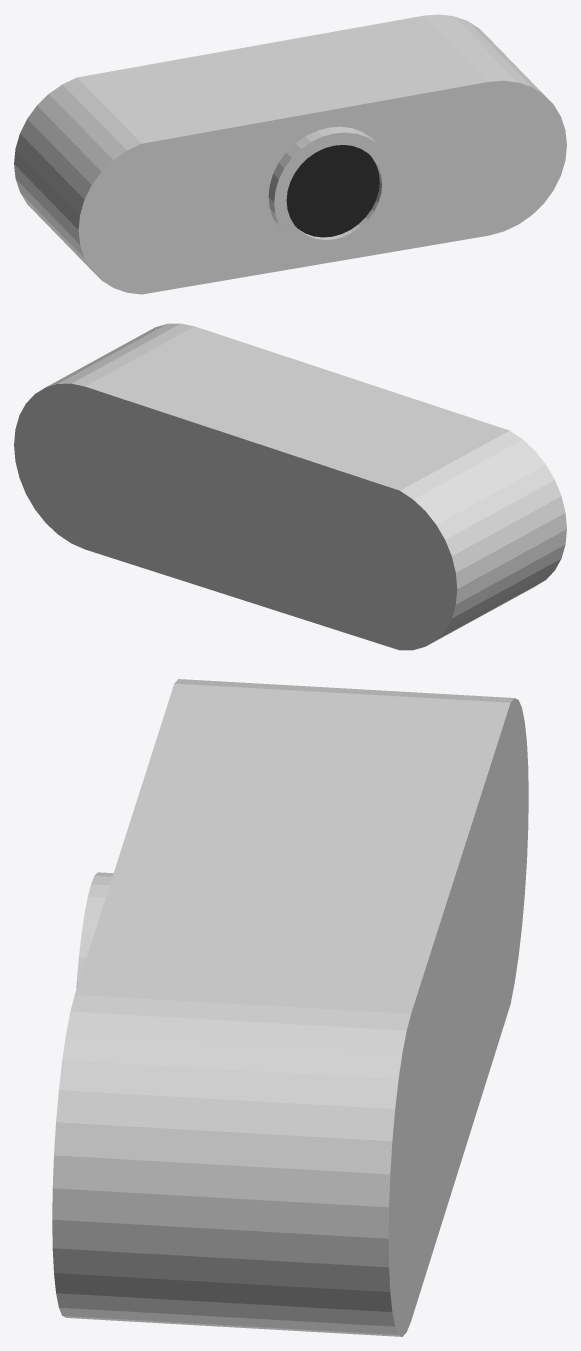
Rendered from NSCam.gltf.
3 views of the same model, one above another, from view 1: azimuth 30°, elevation 25°; view 2: azimuth 150°, elevation 25°; view 3: azimuth 270°, elevation 25° (orthographic). The views are drawn at different scales.
Parts seen in each view (by area): view 1: Bianco Pc WebCam; view 2: Bianco Pc WebCam; view 3: Bianco Pc WebCam.
Boxes of the visible parts, x1,y1,x2,y2 form: Bianco Pc WebCam: (14, 14, 566, 294); Bianco Pc WebCam: (14, 323, 566, 650); Bianco Pc WebCam: (52, 679, 528, 1336).
Bounding box in the file's own units: 0.0671 × 0.0209 × 0.0293.
Materials: 2 (1 with a texture image).
